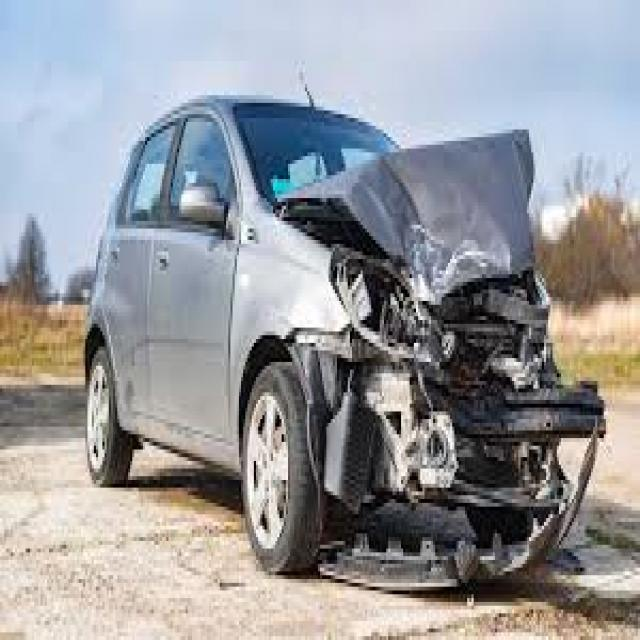accident: (86, 93, 605, 591)
